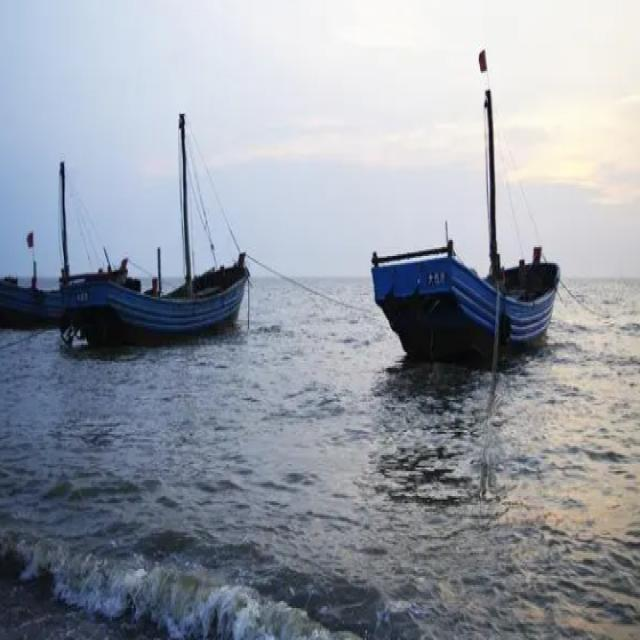fishing boat: (370, 84, 561, 352), (64, 120, 252, 338), (0, 160, 138, 323)
